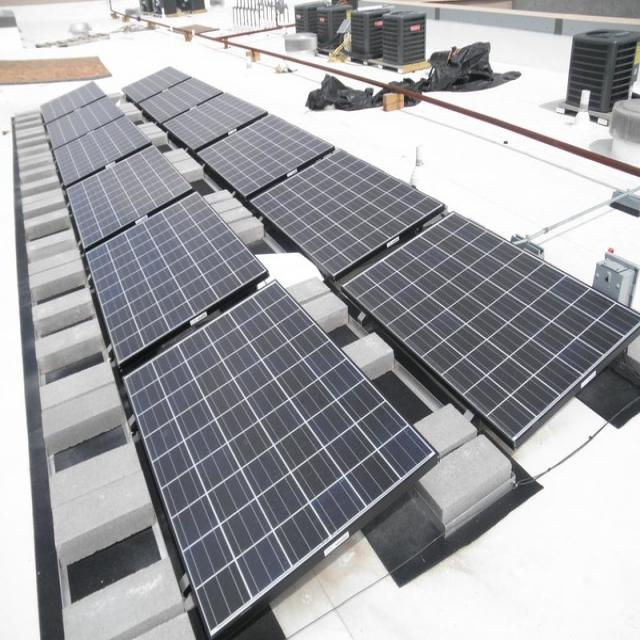no faulty: (126, 282, 432, 628), (347, 214, 640, 436), (86, 195, 268, 365), (250, 149, 444, 274), (68, 146, 193, 246), (198, 114, 334, 195), (52, 116, 146, 186), (165, 94, 262, 148), (48, 96, 120, 148), (140, 79, 221, 124), (39, 78, 105, 124), (125, 66, 185, 99)
